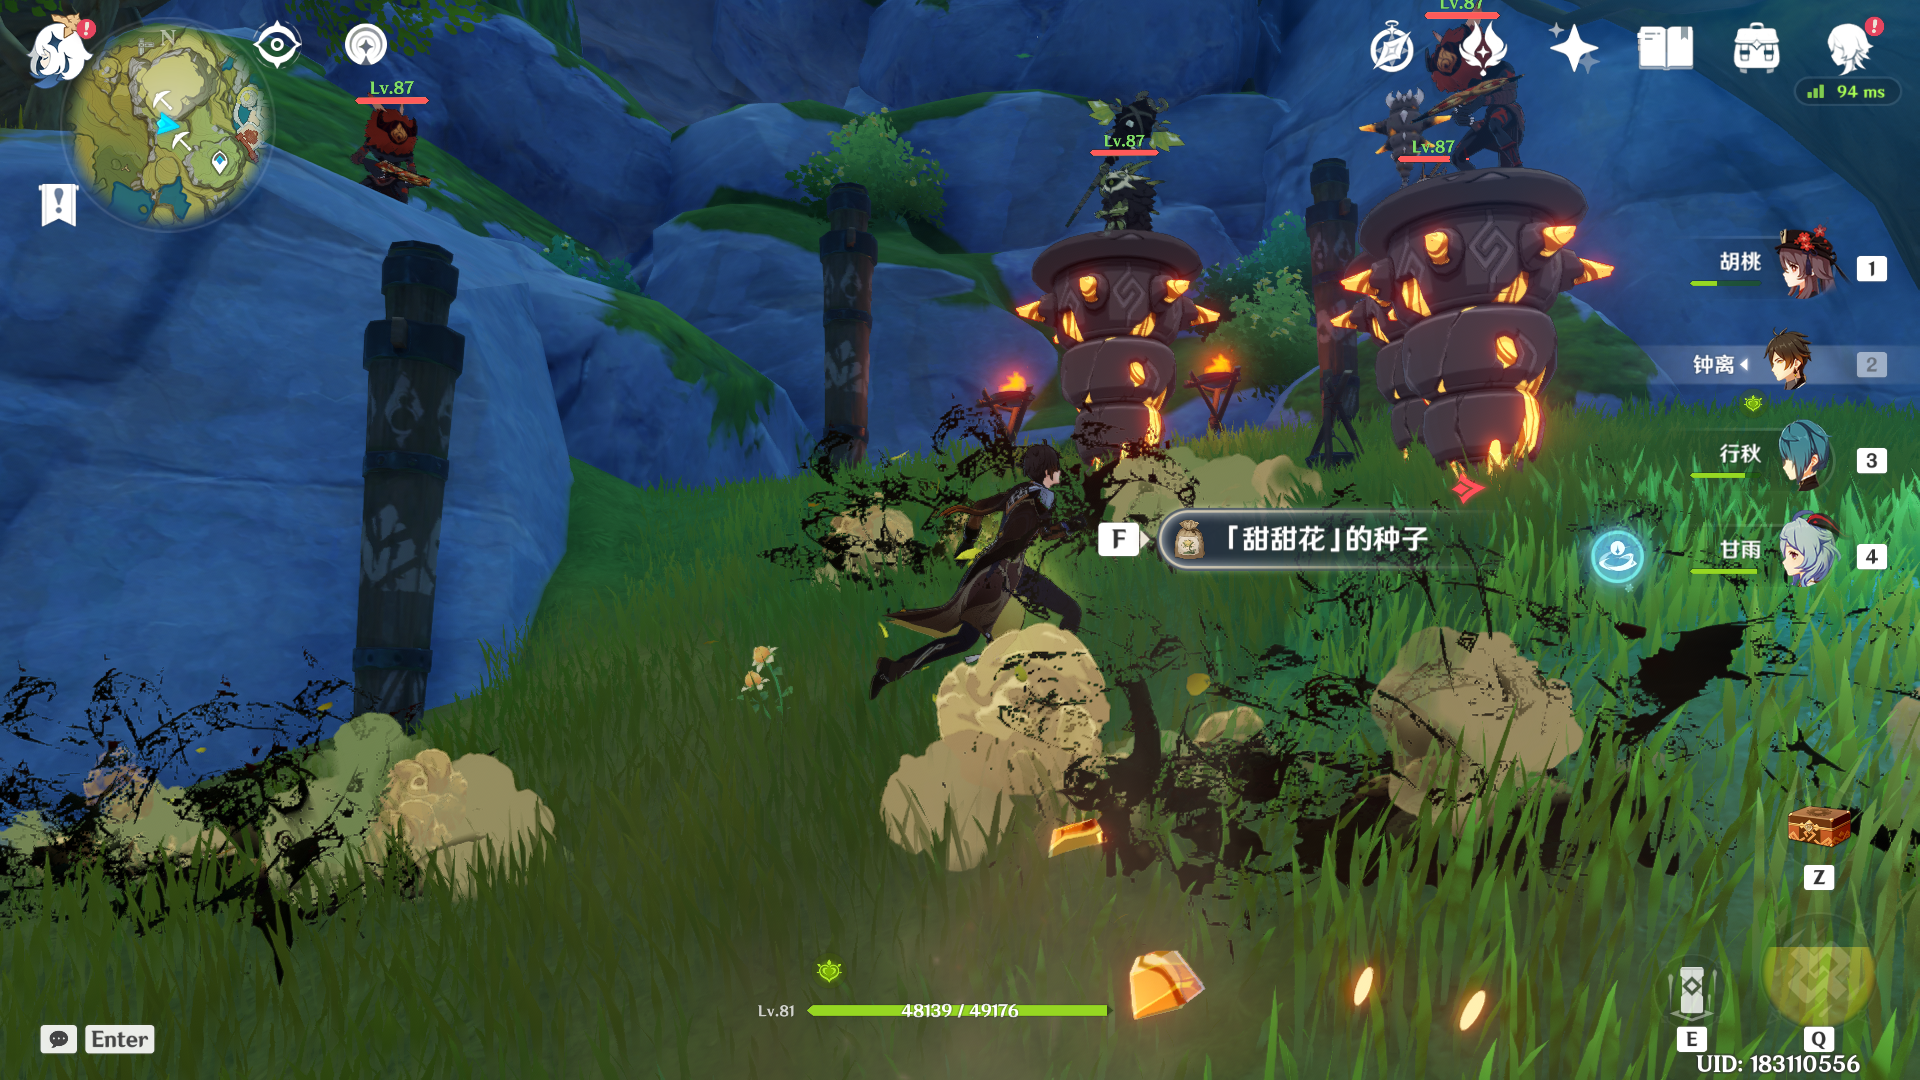character: (827, 405, 1153, 731)
hili: (1358, 24, 1549, 173), (1059, 105, 1184, 244), (343, 75, 463, 216)
